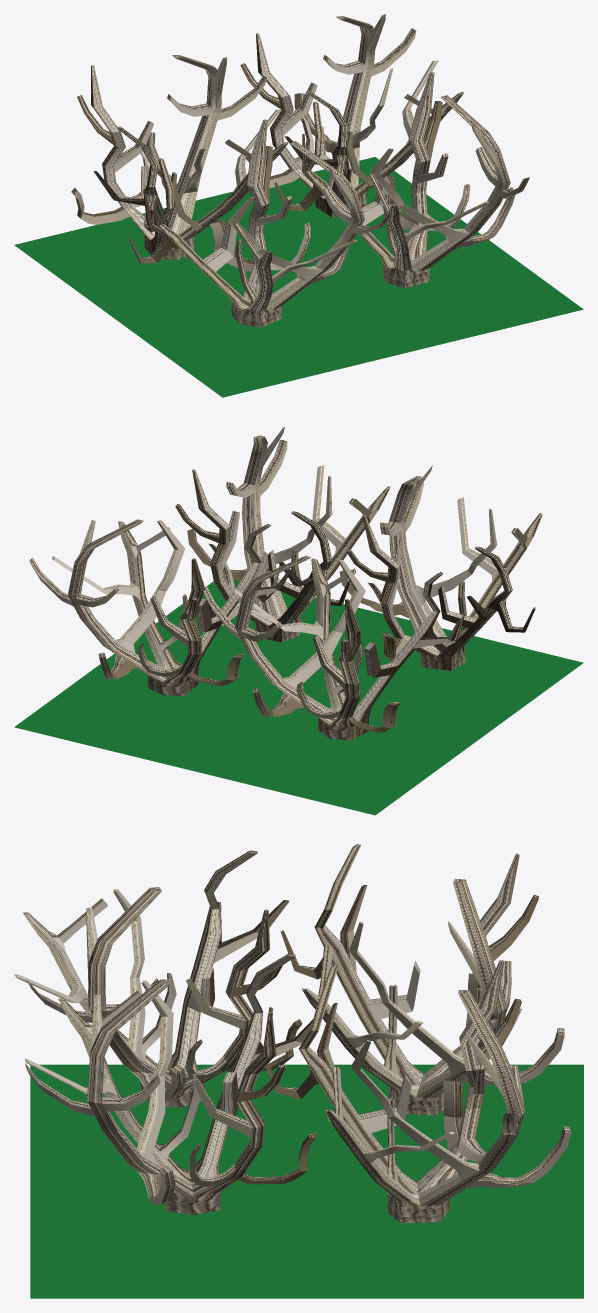
The model's file is trap_park_part.fbx.
3 renders of one model, top to bottom at view 1: azimuth 30°, elevation 25°; view 2: azimuth 150°, elevation 25°; view 3: azimuth 270°, elevation 25°, orthographic. The views are drawn at different scales.
Parts seen in each view (by area): view 1: Плоскость, кусты; view 2: кусты, Плоскость; view 3: Плоскость, кусты.
Part boxes in pixels (x1,y1,x2,y2): Плоскость: (14, 157, 583, 397); кусты: (71, 14, 529, 327); кусты: (29, 427, 542, 740); Плоскость: (14, 579, 583, 815); Плоскость: (30, 1064, 583, 1298); кусты: (14, 844, 571, 1223).
Bounding box in the file's own units: 173 × 82.01 × 163.
Materials: 2 (1 with a texture image).
